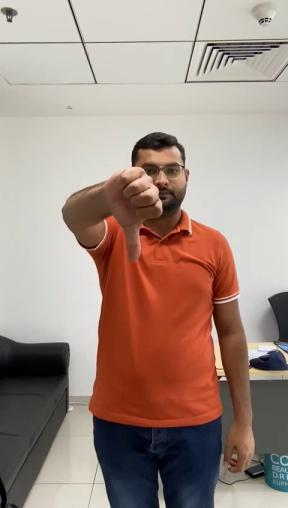thumbs-down: (104, 167, 165, 262)
